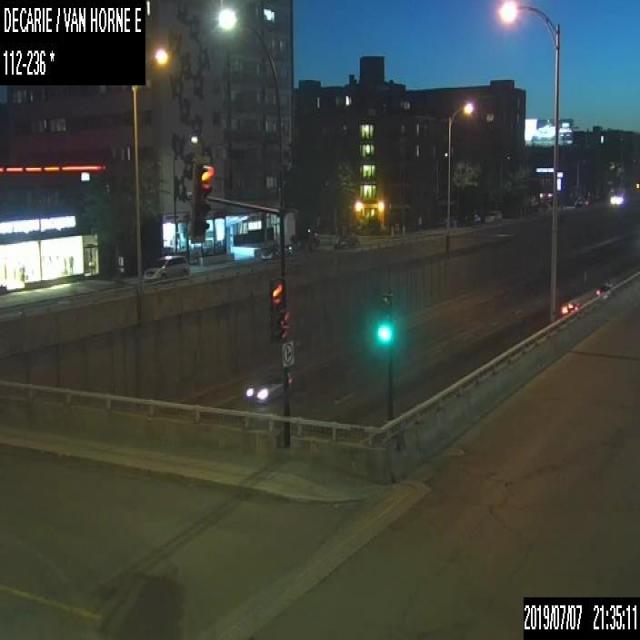vehicle: (246, 369, 282, 404), (144, 252, 189, 277), (560, 298, 580, 314), (334, 236, 356, 248), (484, 211, 502, 223), (261, 246, 277, 258), (596, 281, 608, 291), (287, 372, 293, 391)
